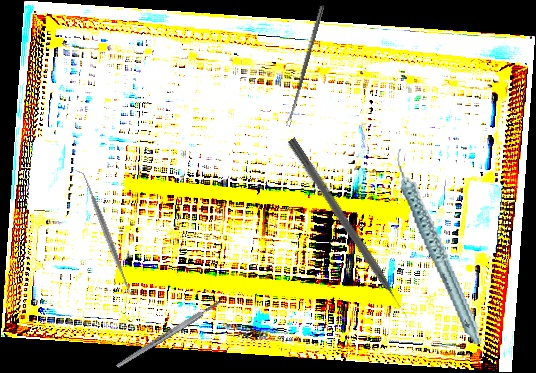Handpiece: (393, 140, 484, 353)
Pusher: (285, 136, 411, 322)
Scalpel Handle: (114, 298, 223, 370)
Spatula Surgical: (74, 165, 138, 300)
Surgical Spoon: (285, 4, 325, 127)
